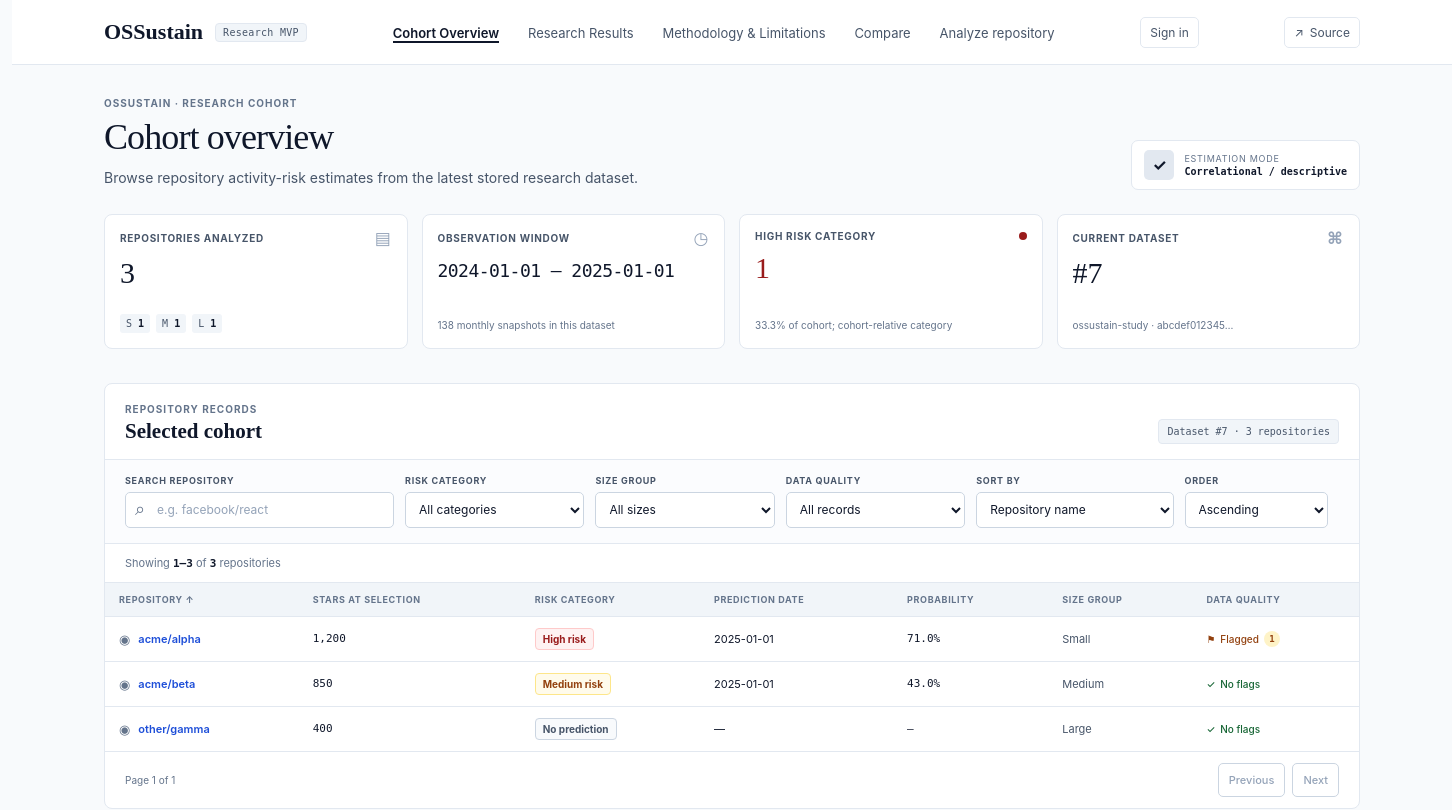
it: Dashboard screens › updates URL filter state, resets the page, and sorts through table headings
Check: the link "◉ acme/alpha" is shown, box [119,631,201,647]
Select "Medium" in the dropdown labelled "Risk category" at (495, 510), box [405,492,584,528]
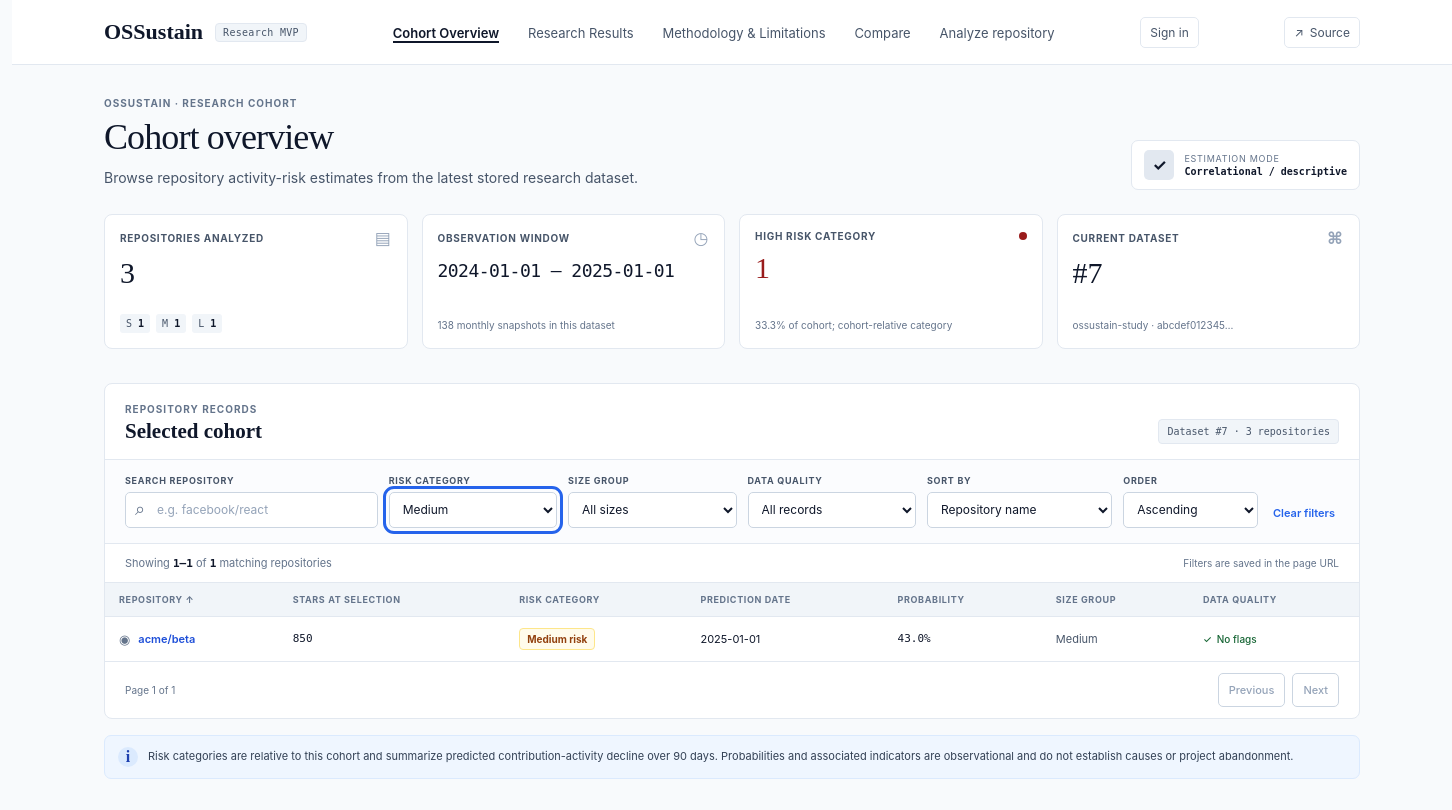
Check: the link "◉ acme/beta" is shown, box [119,631,195,647]
Click the button "Repository ↑" at (157, 599), box [119,594,194,605]
(page scrolled)
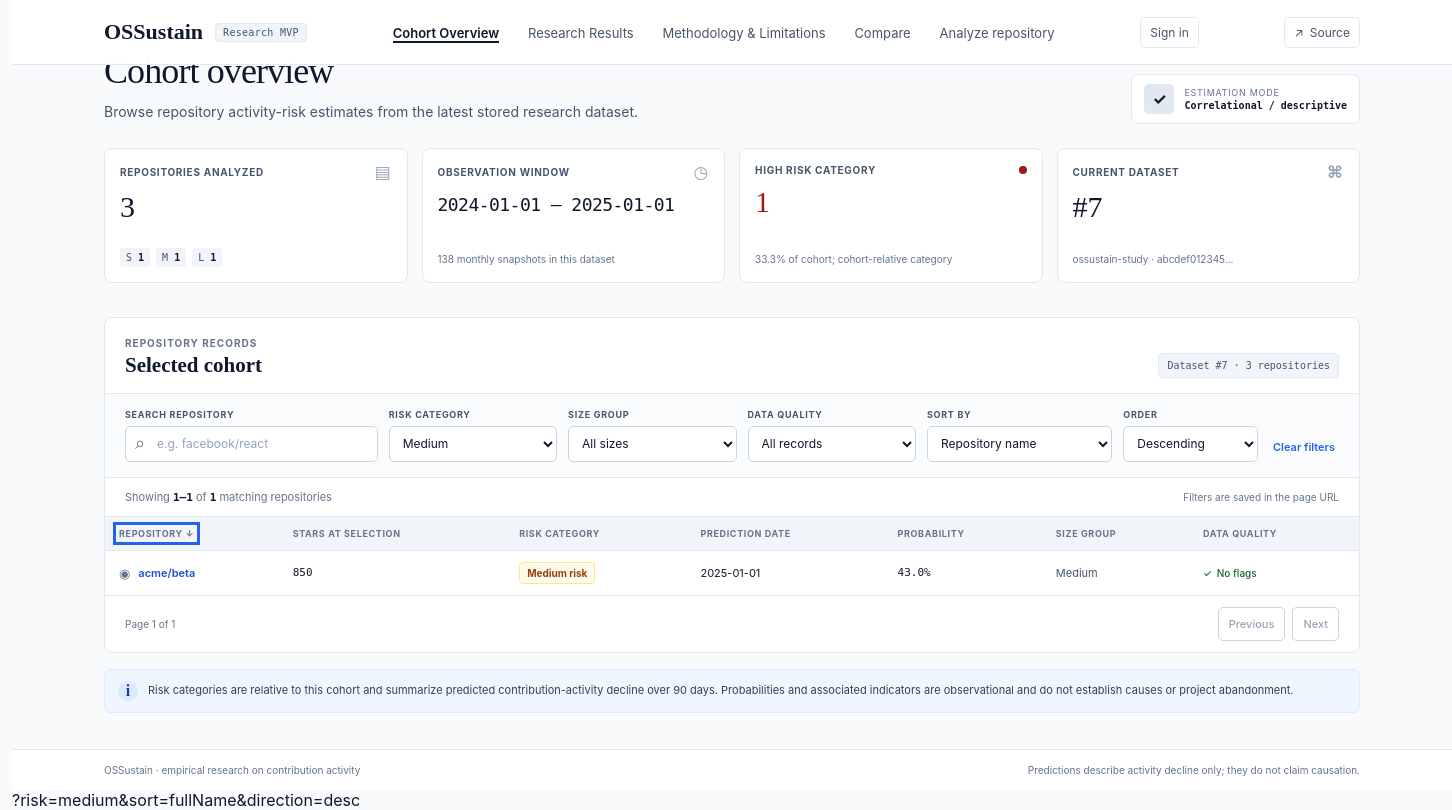
Check: the text named "Current URL query" shows "sort=fullName", box [12,790,360,809]
Check: the text named "Current URL query" shows "direction=desc", box [12,790,360,809]
